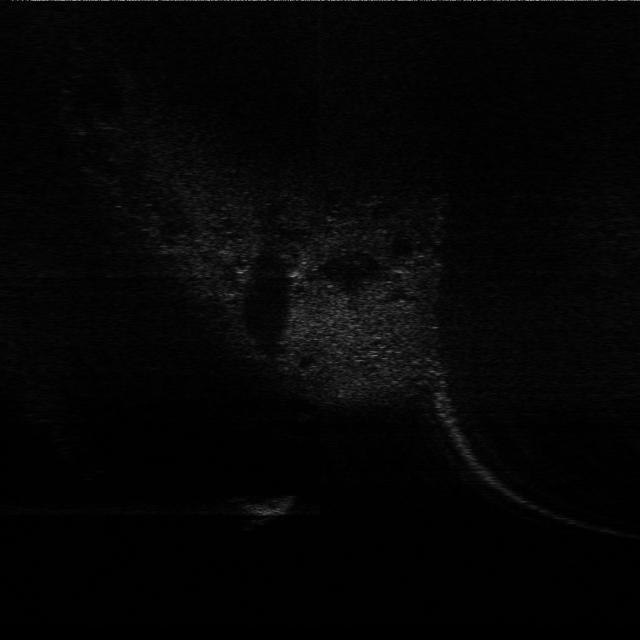square cage: (238, 484, 300, 521)
